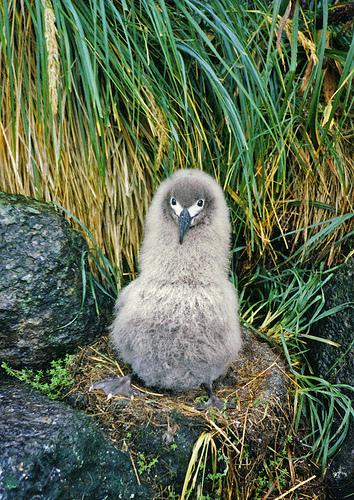003.Sooty_Albatross: (108, 169, 248, 415)
